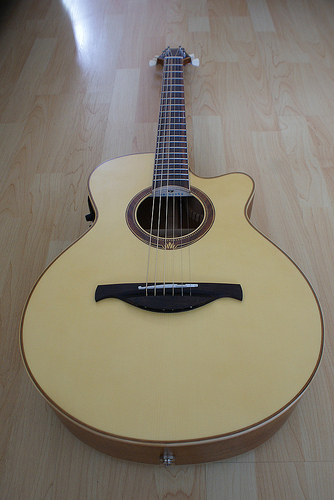guitar: (18, 43, 323, 468)
